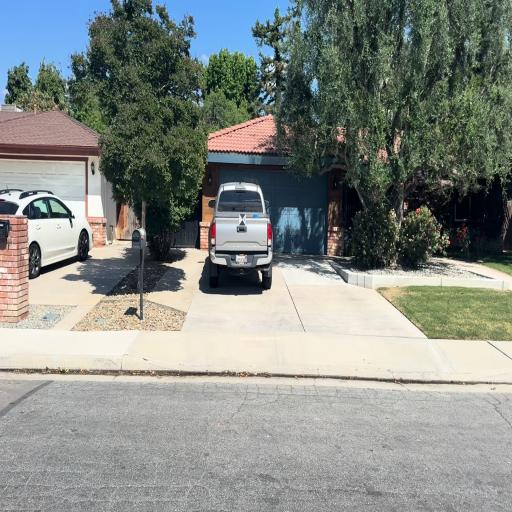target1: (239, 213, 246, 226)
